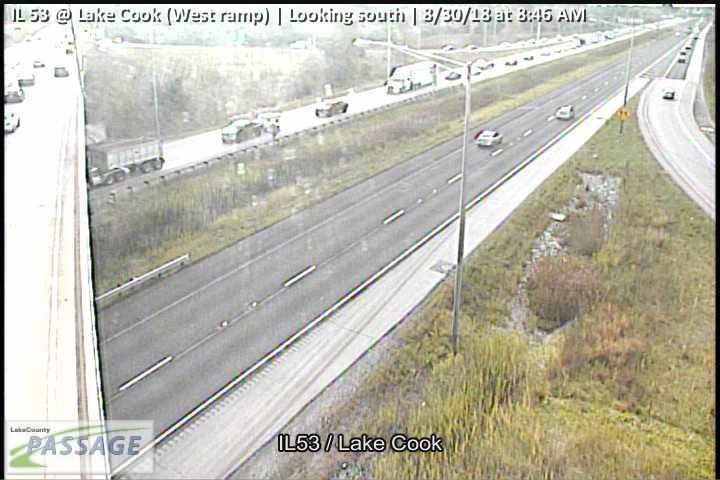SUV: (219, 119, 264, 144)
Sedan: (315, 101, 349, 118), (475, 130, 505, 147), (556, 105, 574, 118), (444, 71, 463, 80), (662, 87, 676, 99)
Truck: (85, 136, 164, 192), (383, 62, 434, 95)
